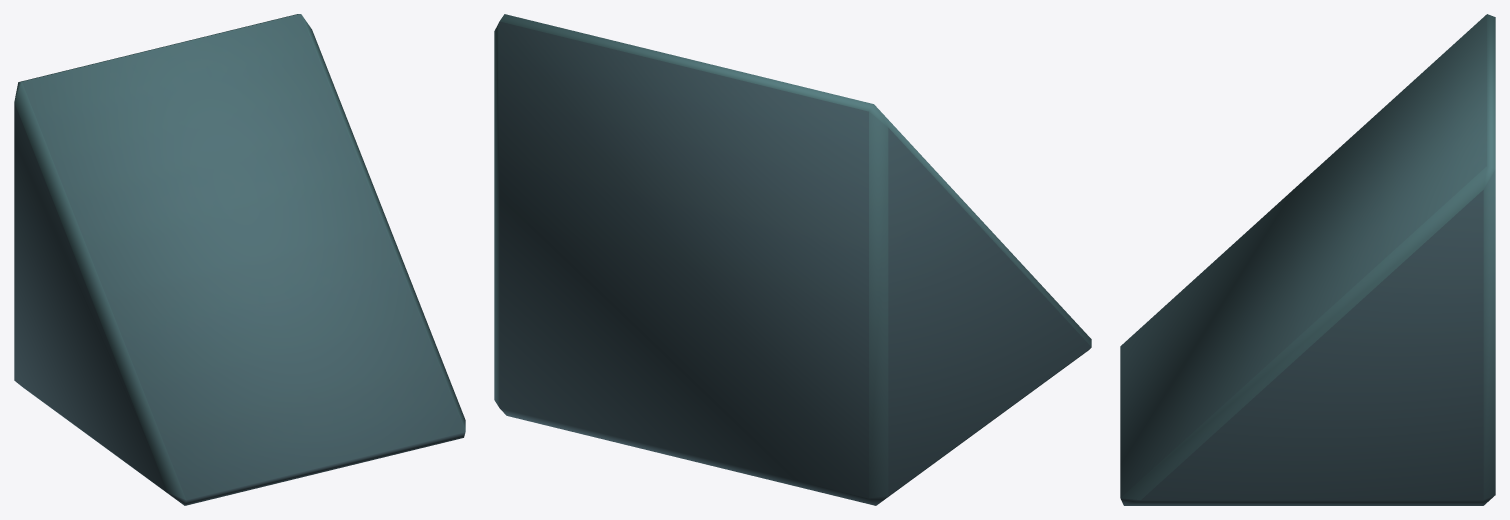
Rendered from ramp_straight_hue_2.fbx.
The picture shows the model from 3 angles, left to right: view 1: azimuth 30°, elevation 25°; view 2: azimuth 150°, elevation 25°; view 3: azimuth 270°, elevation 25°; orthographic projection. The views are drawn at different scales.
Parts seen in each view (by area): view 1: ramp_straight_hue_2; view 2: ramp_straight_hue_2; view 3: ramp_straight_hue_2.
Part boxes in pixels (x1=…): ramp_straight_hue_2: x1=14, y1=14, x2=465, y2=505; ramp_straight_hue_2: x1=494, y1=14, x2=1091, y2=505; ramp_straight_hue_2: x1=1120, y1=14, x2=1495, y2=505.
Bounding box in the file's own units: 100 × 97.79 × 97.79.
